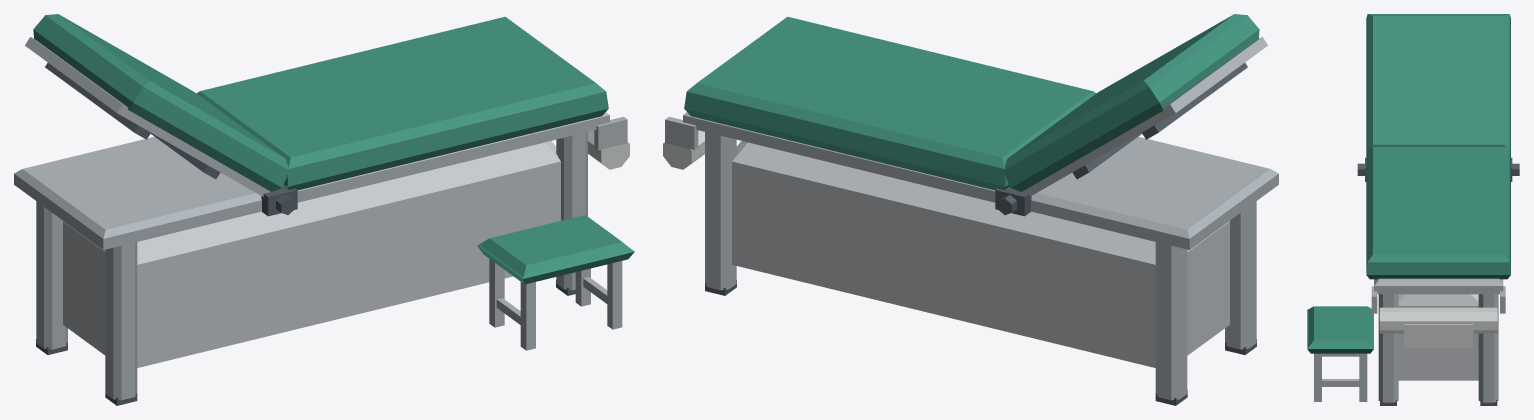
The model's file is examination-couch-1ab5b9.glb.
3 views of the same model, side by side, from view 1: azimuth 30°, elevation 25°; view 2: azimuth 150°, elevation 25°; view 3: azimuth 270°, elevation 25° (orthographic). The views are drawn at different scales.
Visible parts, largest first — view 1: examination-couch, backrest, footstool, paper-roll; view 2: examination-couch, backrest, paper-roll; view 3: examination-couch, backrest, footstool, paper-roll.
Boxes of the visible parts, x1,y1,x2,y2 form: examination-couch: [14, 16, 627, 405]; backrest: [25, 14, 287, 196]; footstool: [477, 215, 634, 350]; paper-roll: [588, 130, 629, 169]; examination-couch: [665, 16, 1278, 405]; backrest: [1005, 14, 1267, 196]; paper-roll: [663, 130, 704, 169]; examination-couch: [1357, 147, 1519, 405]; backrest: [1366, 14, 1510, 158]; footstool: [1307, 306, 1373, 401]; paper-roll: [1379, 307, 1497, 347].
Bounding box in the file's own units: 1.99 × 1.16 × 0.954.
